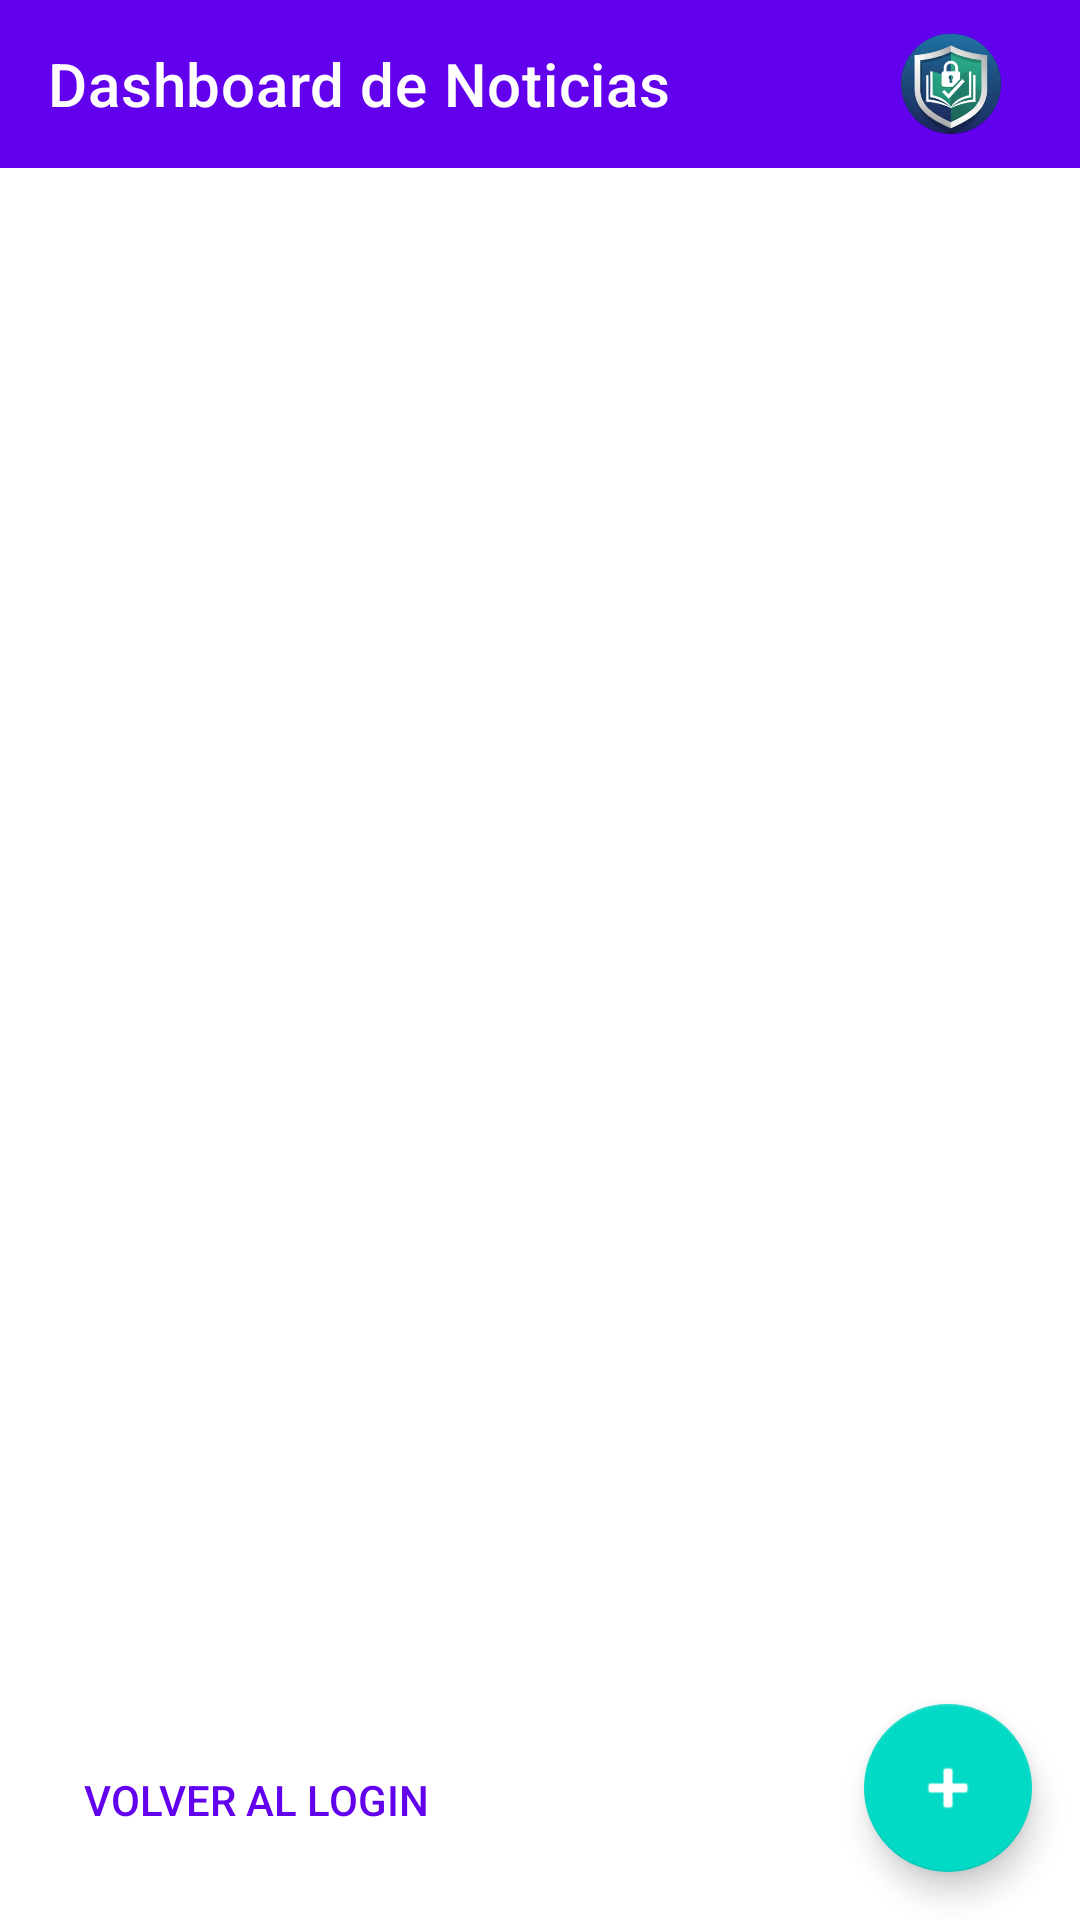

Named icons in this screenshot (1080x1920) and their centers, point (x, y):
Crear nueva noticia: point (948, 1788)
